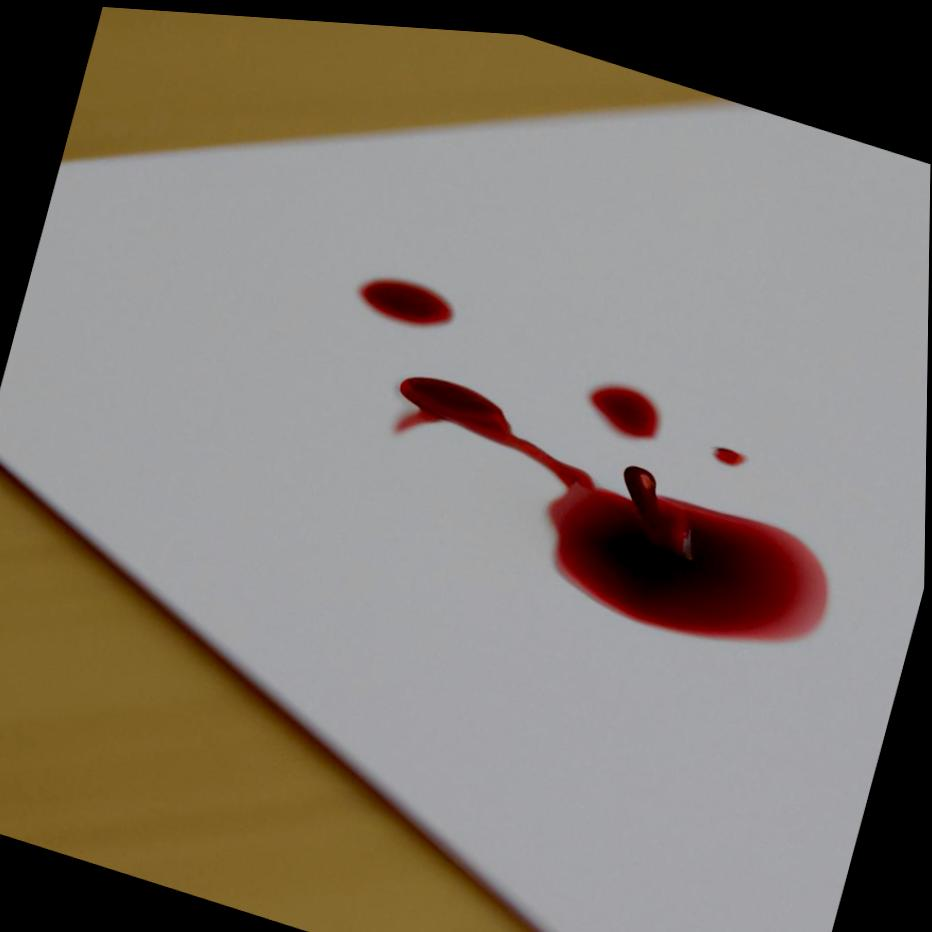Fire: (395, 369, 829, 630), (357, 272, 455, 320), (589, 376, 661, 429), (714, 436, 748, 456)
